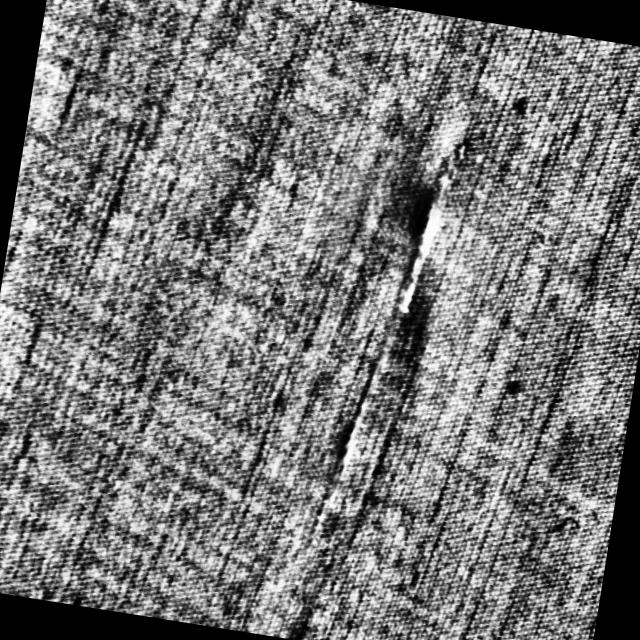gray stitch: (378, 103, 478, 348)
